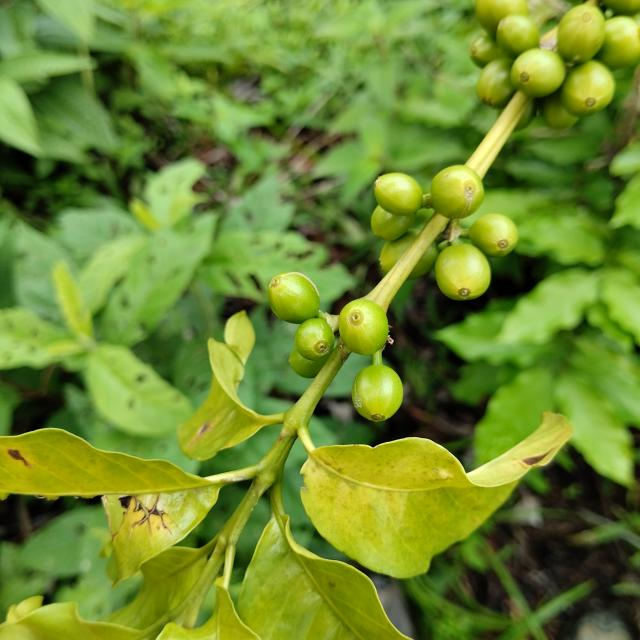green: (352, 351, 404, 422), (435, 243, 492, 300), (560, 59, 616, 116), (431, 165, 485, 219), (558, 3, 606, 62), (339, 299, 389, 355), (511, 47, 567, 97), (268, 272, 320, 324), (470, 213, 519, 257), (374, 172, 423, 215), (477, 56, 516, 107), (380, 229, 421, 273), (295, 318, 334, 361), (371, 205, 417, 241), (289, 349, 329, 378), (408, 242, 439, 279)
